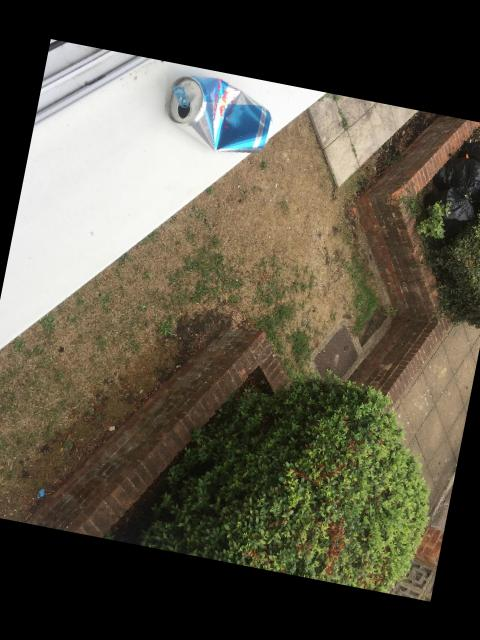metal: (165, 76, 270, 152)
